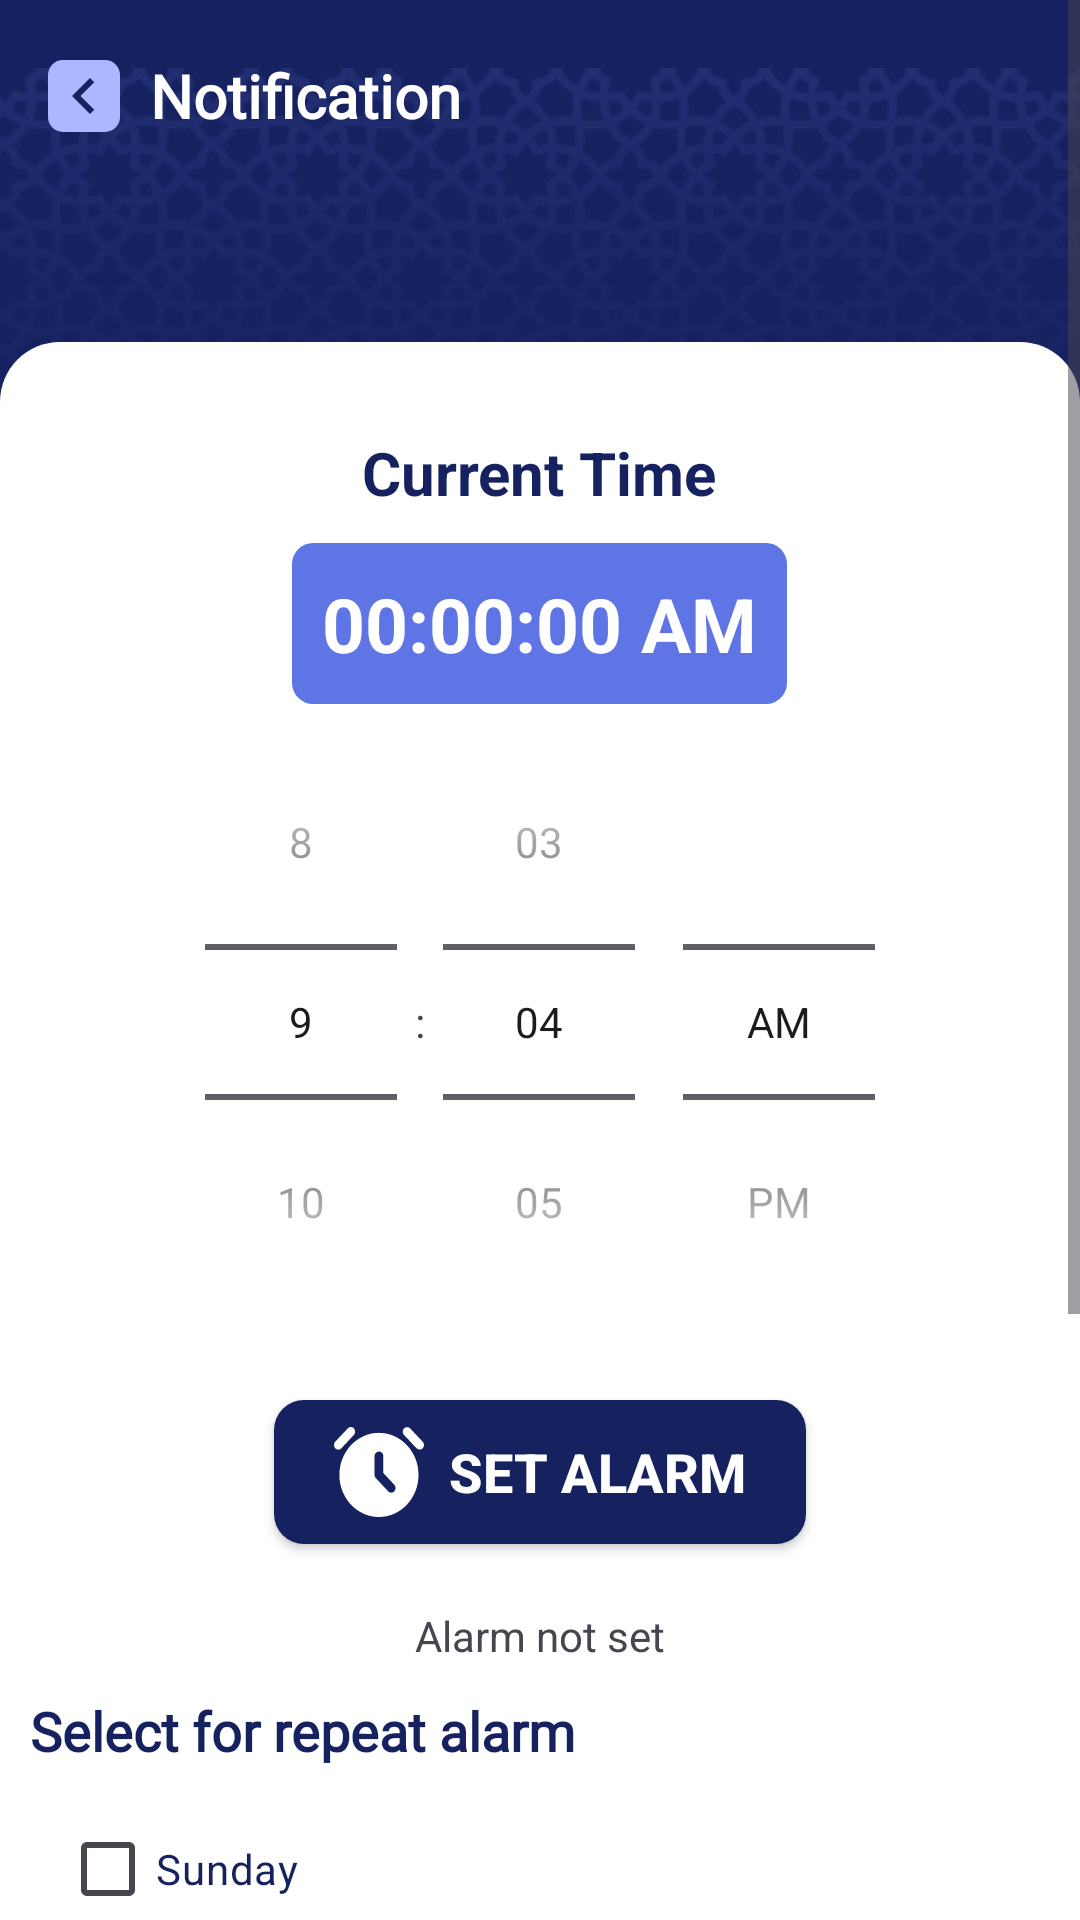

Point at icon controls on the screen. Image size 1080w x 1920h, points as [x,y].
chevron left: [84,96]
